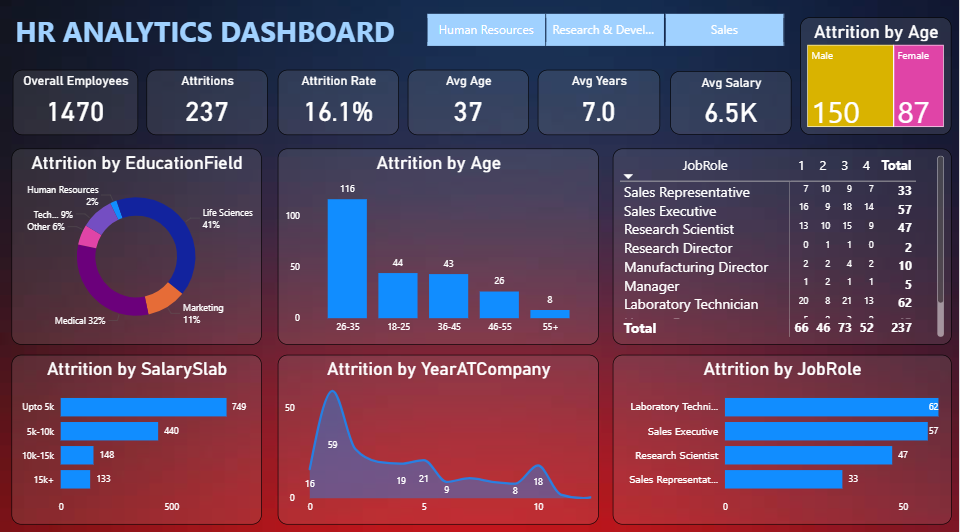

What the dashboard file says about the page in this screenshot:
{"tool":"powerbi","page":{"name":"Page 1","canvas":[1280,720],"ordinal":0},"visuals":[{"type":"textbox","box":[16.9,16.9,527.2,67.6],"z":0},{"type":"card","title":"Overall Employees","fields":{"Values":["Sum(HR_Analytics_with_AttritionFlag.EmployeeCount)"]},"box":[18.6,98.6,167.1,87.1],"z":1000},{"type":"card","title":"Avg Age","fields":{"Values":["Avg(HR_Analytics.Age)"]},"box":[544.3,98.6,161.4,87.1],"z":2000},{"type":"card","title":"Avg Salary","fields":{"Values":["Avg(HR_Analytics.MonthlyIncome)"]},"box":[895,100,161.7,85],"z":3000},{"type":"card","title":"Avg Years","fields":{"Values":["Avg(HR_Analytics.YearsAtCompany)"]},"box":[718.6,98.6,162.9,87.1],"z":4000},{"type":"card","title":"Attritions","fields":{"Values":["Sum(HR_Analytics_with_AttritionFlag.AttritionFlag)"]},"box":[196.2,98.8,161.2,86.9],"z":5000},{"type":"card","title":"Attrition Rate","fields":{"Values":["HR_Analytics_with_AttritionFlag.Attrition Rate"]},"box":[371.5,98.5,161.5,86.9],"z":6000},{"type":"columnChart","title":" Attrition by Age","fields":{"Category":["HR_Analytics_with_AttritionFlag.AgeGroup"],"Y":["Sum(HR_Analytics_with_AttritionFlag.AttritionFlag)"]},"box":[371.7,203.3,428.3,261.7],"z":7000},{"type":"donutChart","title":"Attrition by EducationField","fields":{"Series":["HR_Analytics_with_AttritionFlag.EducationField"],"Y":["CountNonNull(HR_Analytics_with_AttritionFlag.Attrition)"]},"box":[16.7,203.3,333.3,261.7],"z":8000},{"type":"barChart","title":"Attrition by  SalarySlab","fields":{"Category":["HR_Analytics_with_AttritionFlag.SalarySlab"],"Y":["CountNonNull(HR_Analytics_with_AttritionFlag.SalarySlab)"]},"box":[16.7,478.3,333.3,226.7],"z":9000},{"type":"stackedAreaChart","title":" Attrition by YearATCompany","fields":{"Category":["HR_Analytics_with_AttritionFlag.YearsAtCompany"],"Y":["Sum(HR_Analytics_with_AttritionFlag.AttritionFlag)"]},"box":[371.7,478.3,428.3,226.7],"z":10000},{"type":"barChart","title":"Attrition by  JobRole","fields":{"Category":["HR_Analytics_with_AttritionFlag.JobRole"],"Y":["Sum(HR_Analytics_with_AttritionFlag.AttritionFlag)"]},"box":[818.3,478.3,451.7,226.7],"z":11000},{"type":"pivotTable","fields":{"Rows":["HR_Analytics_with_AttritionFlag.JobRole"],"Columns":["HR_Analytics_with_AttritionFlag.JobSatisfaction"],"Values":["Sum(HR_Analytics_with_AttritionFlag.AttritionFlag)"]},"box":[818.3,203.3,451.7,261.7],"z":12000},{"type":"treemap","title":" Attrition by Age","fields":{"Group":["HR_Analytics_with_AttritionFlag.Gender"],"Values":["Sum(HR_Analytics_with_AttritionFlag.AttritionFlag)"]},"box":[1068.3,28.3,201.7,156.7],"z":13000},{"type":"slicer","fields":{"Values":["HR_Analytics_with_AttritionFlag.Department"]},"box":[544.5,17.3,524.5,56.4],"z":14000}]}

Visuals, with their boxes in screenshot pixels (x1, y1, x2, y2), scaled from the page's 1280x720 canvas onto the 960x532 screenshot:
textbox: detection(13, 12, 408, 62)
"Overall Employees" card: detection(14, 73, 139, 137)
"Avg Age" card: detection(408, 73, 529, 137)
"Avg Salary" card: detection(671, 74, 793, 137)
"Avg Years" card: detection(539, 73, 661, 137)
"Attritions" card: detection(147, 73, 268, 137)
"Attrition Rate" card: detection(279, 73, 400, 137)
" Attrition by Age" columnChart: detection(279, 150, 600, 344)
"Attrition by EducationField" donutChart: detection(13, 150, 262, 344)
"Attrition by  SalarySlab" barChart: detection(13, 353, 262, 521)
" Attrition by YearATCompany" stackedAreaChart: detection(279, 353, 600, 521)
"Attrition by  JobRole" barChart: detection(614, 353, 952, 521)
pivotTable - HR_Analytics_with_AttritionFlag.JobRole x HR_Analytics_with_AttritionFlag.JobSatisfaction: detection(614, 150, 952, 344)
" Attrition by Age" treemap: detection(801, 21, 952, 137)
slicer - HR_Analytics_with_AttritionFlag.Department: detection(408, 13, 802, 54)
